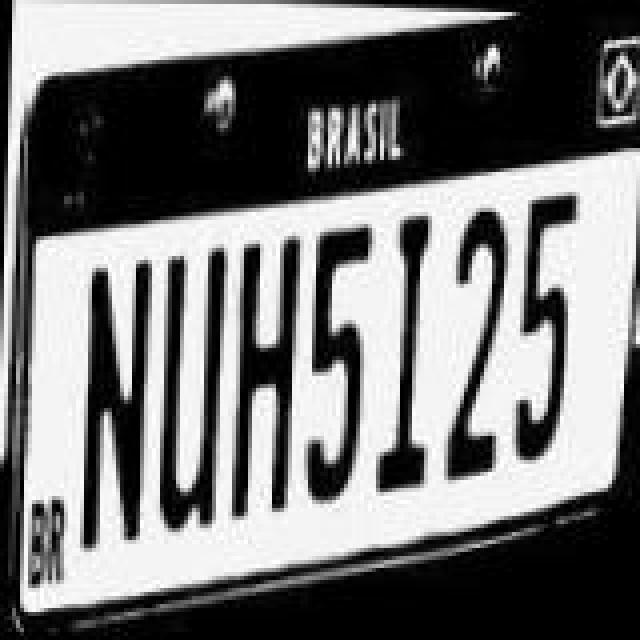2: (440, 180, 520, 468)
5: (306, 198, 382, 486), (516, 172, 588, 444)
H: (228, 214, 312, 506)
I: (374, 188, 450, 480)
N: (80, 242, 164, 554)
U: (152, 226, 236, 530)
